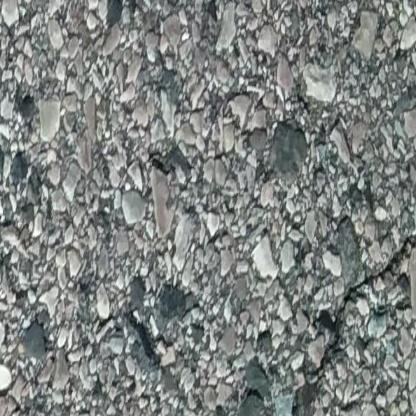Cracks: (286, 219, 416, 416)
